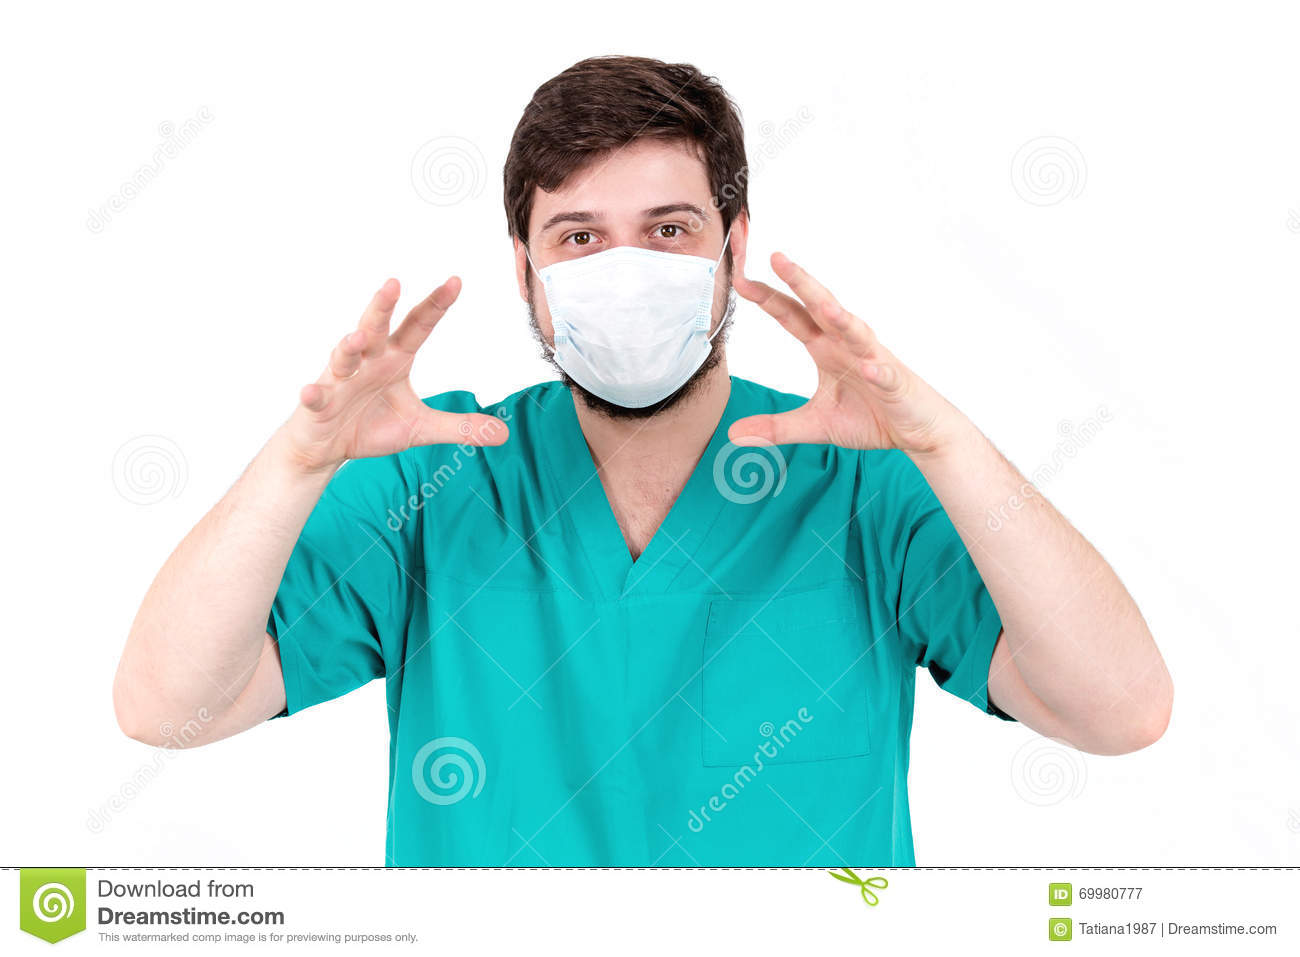mask: (531, 239, 729, 398)
